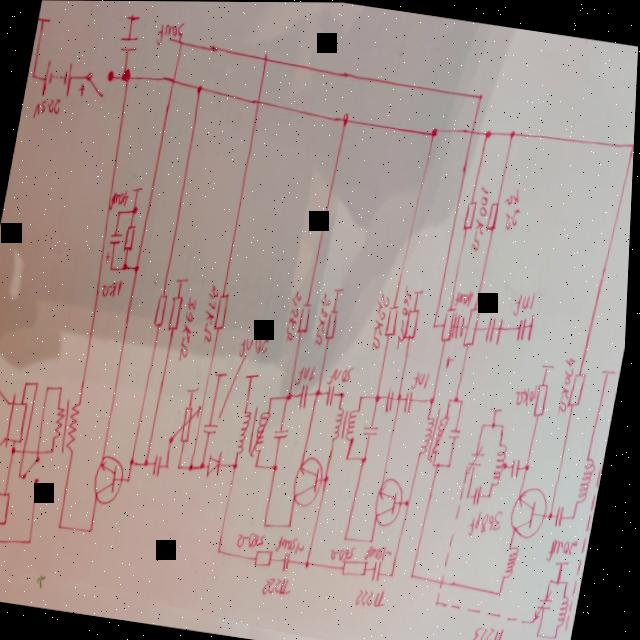capacitor: (447, 313, 467, 372), (467, 442, 492, 479), (538, 587, 562, 624), (106, 232, 125, 266), (204, 416, 226, 439), (487, 315, 502, 346), (120, 34, 140, 55), (300, 383, 315, 411), (557, 503, 572, 530), (155, 453, 169, 480), (407, 389, 420, 417), (328, 382, 341, 410), (388, 387, 401, 415), (517, 318, 530, 345), (376, 560, 389, 585), (366, 424, 384, 441), (515, 457, 527, 482), (477, 484, 488, 509), (451, 426, 467, 442), (286, 552, 297, 573), (278, 427, 294, 441)
crossover: (171, 79, 179, 88), (445, 578, 450, 588), (471, 129, 476, 136), (40, 451, 45, 457), (26, 450, 31, 456)
diode: (209, 450, 228, 481)
ground: (529, 312, 540, 343), (601, 365, 622, 380), (125, 13, 143, 27), (189, 385, 205, 397), (248, 372, 264, 384), (559, 559, 577, 568), (544, 363, 559, 373), (217, 370, 232, 380), (133, 186, 147, 196), (38, 16, 52, 26), (179, 277, 192, 287), (335, 286, 348, 296)
inductor: (557, 450, 609, 637), (507, 545, 526, 582)
junction: (121, 67, 133, 84), (430, 125, 441, 139), (132, 205, 142, 218), (288, 391, 298, 404), (416, 287, 428, 297), (377, 393, 386, 406), (31, 71, 40, 84), (13, 446, 22, 459), (509, 129, 518, 141), (528, 462, 536, 475), (485, 129, 493, 142), (192, 462, 200, 475), (364, 456, 372, 467), (309, 560, 317, 571), (136, 264, 144, 275), (263, 54, 271, 65), (133, 458, 141, 469), (197, 84, 205, 95), (236, 461, 243, 473), (318, 389, 325, 400), (502, 589, 509, 600), (147, 459, 154, 470), (575, 513, 582, 524), (124, 263, 131, 274), (440, 462, 447, 473), (456, 395, 463, 406), (180, 464, 187, 475), (491, 491, 498, 502), (552, 510, 559, 521), (277, 463, 284, 474), (328, 474, 335, 485), (494, 421, 501, 431), (169, 462, 175, 473), (409, 499, 415, 510), (470, 490, 476, 501), (433, 397, 440, 406), (434, 323, 441, 332), (62, 385, 69, 394), (394, 571, 401, 580), (38, 381, 45, 390), (374, 537, 381, 546), (541, 632, 548, 640), (117, 209, 124, 217), (222, 548, 228, 557), (32, 539, 38, 548), (479, 93, 485, 102), (49, 385, 55, 394), (463, 398, 469, 407), (504, 423, 510, 432), (27, 382, 33, 391), (173, 436, 178, 446), (558, 633, 565, 640), (272, 396, 278, 404), (570, 579, 576, 587), (631, 142, 635, 153), (62, 524, 68, 531), (363, 395, 368, 403), (259, 464, 264, 472), (452, 463, 457, 471), (415, 574, 420, 582), (350, 456, 355, 464), (179, 41, 184, 49), (344, 392, 349, 400), (293, 523, 298, 531), (441, 600, 446, 608), (131, 477, 136, 485), (112, 265, 117, 273), (401, 394, 406, 402), (0, 537, 4, 546), (268, 523, 273, 530), (562, 580, 567, 587), (348, 536, 353, 543), (485, 422, 490, 429), (94, 527, 99, 534), (21, 474, 26, 481), (554, 578, 559, 584)
resistor: (178, 399, 208, 450), (494, 444, 517, 489), (465, 304, 485, 349), (572, 371, 592, 411), (216, 293, 235, 334), (169, 294, 188, 335), (536, 380, 554, 421), (443, 306, 461, 345), (387, 304, 405, 339), (407, 307, 424, 343), (346, 558, 375, 579), (156, 292, 172, 330), (300, 303, 316, 337), (464, 199, 480, 233), (487, 200, 503, 233), (124, 224, 141, 255), (328, 310, 343, 343), (258, 548, 280, 570)
source: (41, 58, 77, 101), (493, 405, 506, 418)
switch: (84, 66, 118, 102), (25, 455, 48, 486)
text: (179, 296, 203, 364), (395, 284, 418, 351), (472, 185, 494, 253), (202, 285, 225, 346), (560, 356, 582, 417), (372, 293, 394, 352), (472, 507, 509, 541), (154, 17, 188, 53), (287, 290, 308, 345), (317, 294, 336, 349), (550, 536, 584, 566), (241, 333, 275, 362), (33, 94, 64, 124), (359, 587, 393, 613), (267, 576, 300, 601), (515, 288, 540, 320), (476, 622, 517, 640), (281, 535, 312, 557), (241, 530, 272, 552), (331, 543, 362, 565), (367, 544, 399, 564), (331, 365, 359, 387), (517, 384, 541, 409), (104, 280, 127, 302), (456, 287, 478, 309), (299, 364, 321, 386), (414, 370, 436, 392), (505, 206, 523, 232), (112, 189, 132, 210), (506, 187, 523, 207), (78, 84, 87, 100)
transformer: (53, 398, 89, 457), (239, 404, 276, 461), (422, 409, 455, 465), (335, 406, 365, 448)
transistor: (512, 483, 557, 542), (94, 453, 133, 509), (294, 455, 332, 512), (376, 476, 411, 533)
